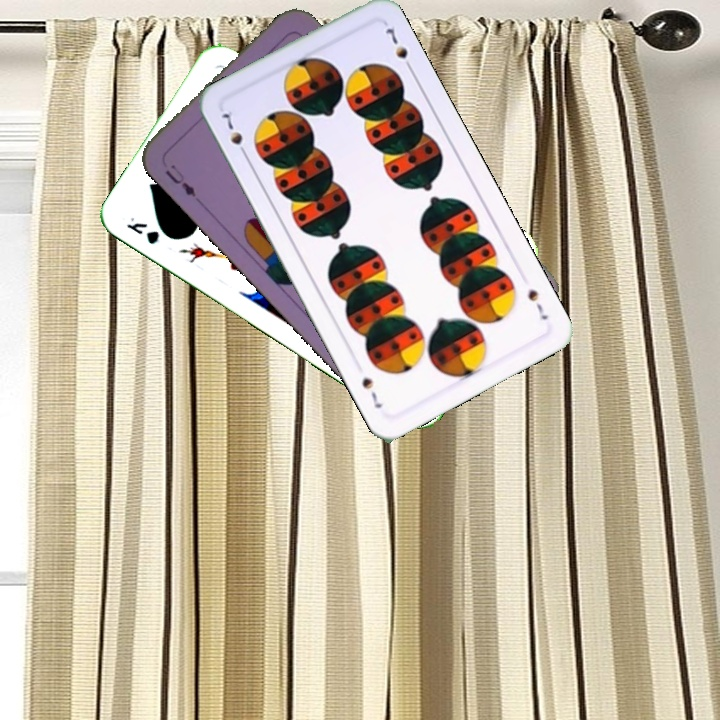EU: (161, 160, 199, 200)
GK: (122, 213, 162, 247)
S7: (216, 105, 251, 161), (523, 285, 551, 323)
